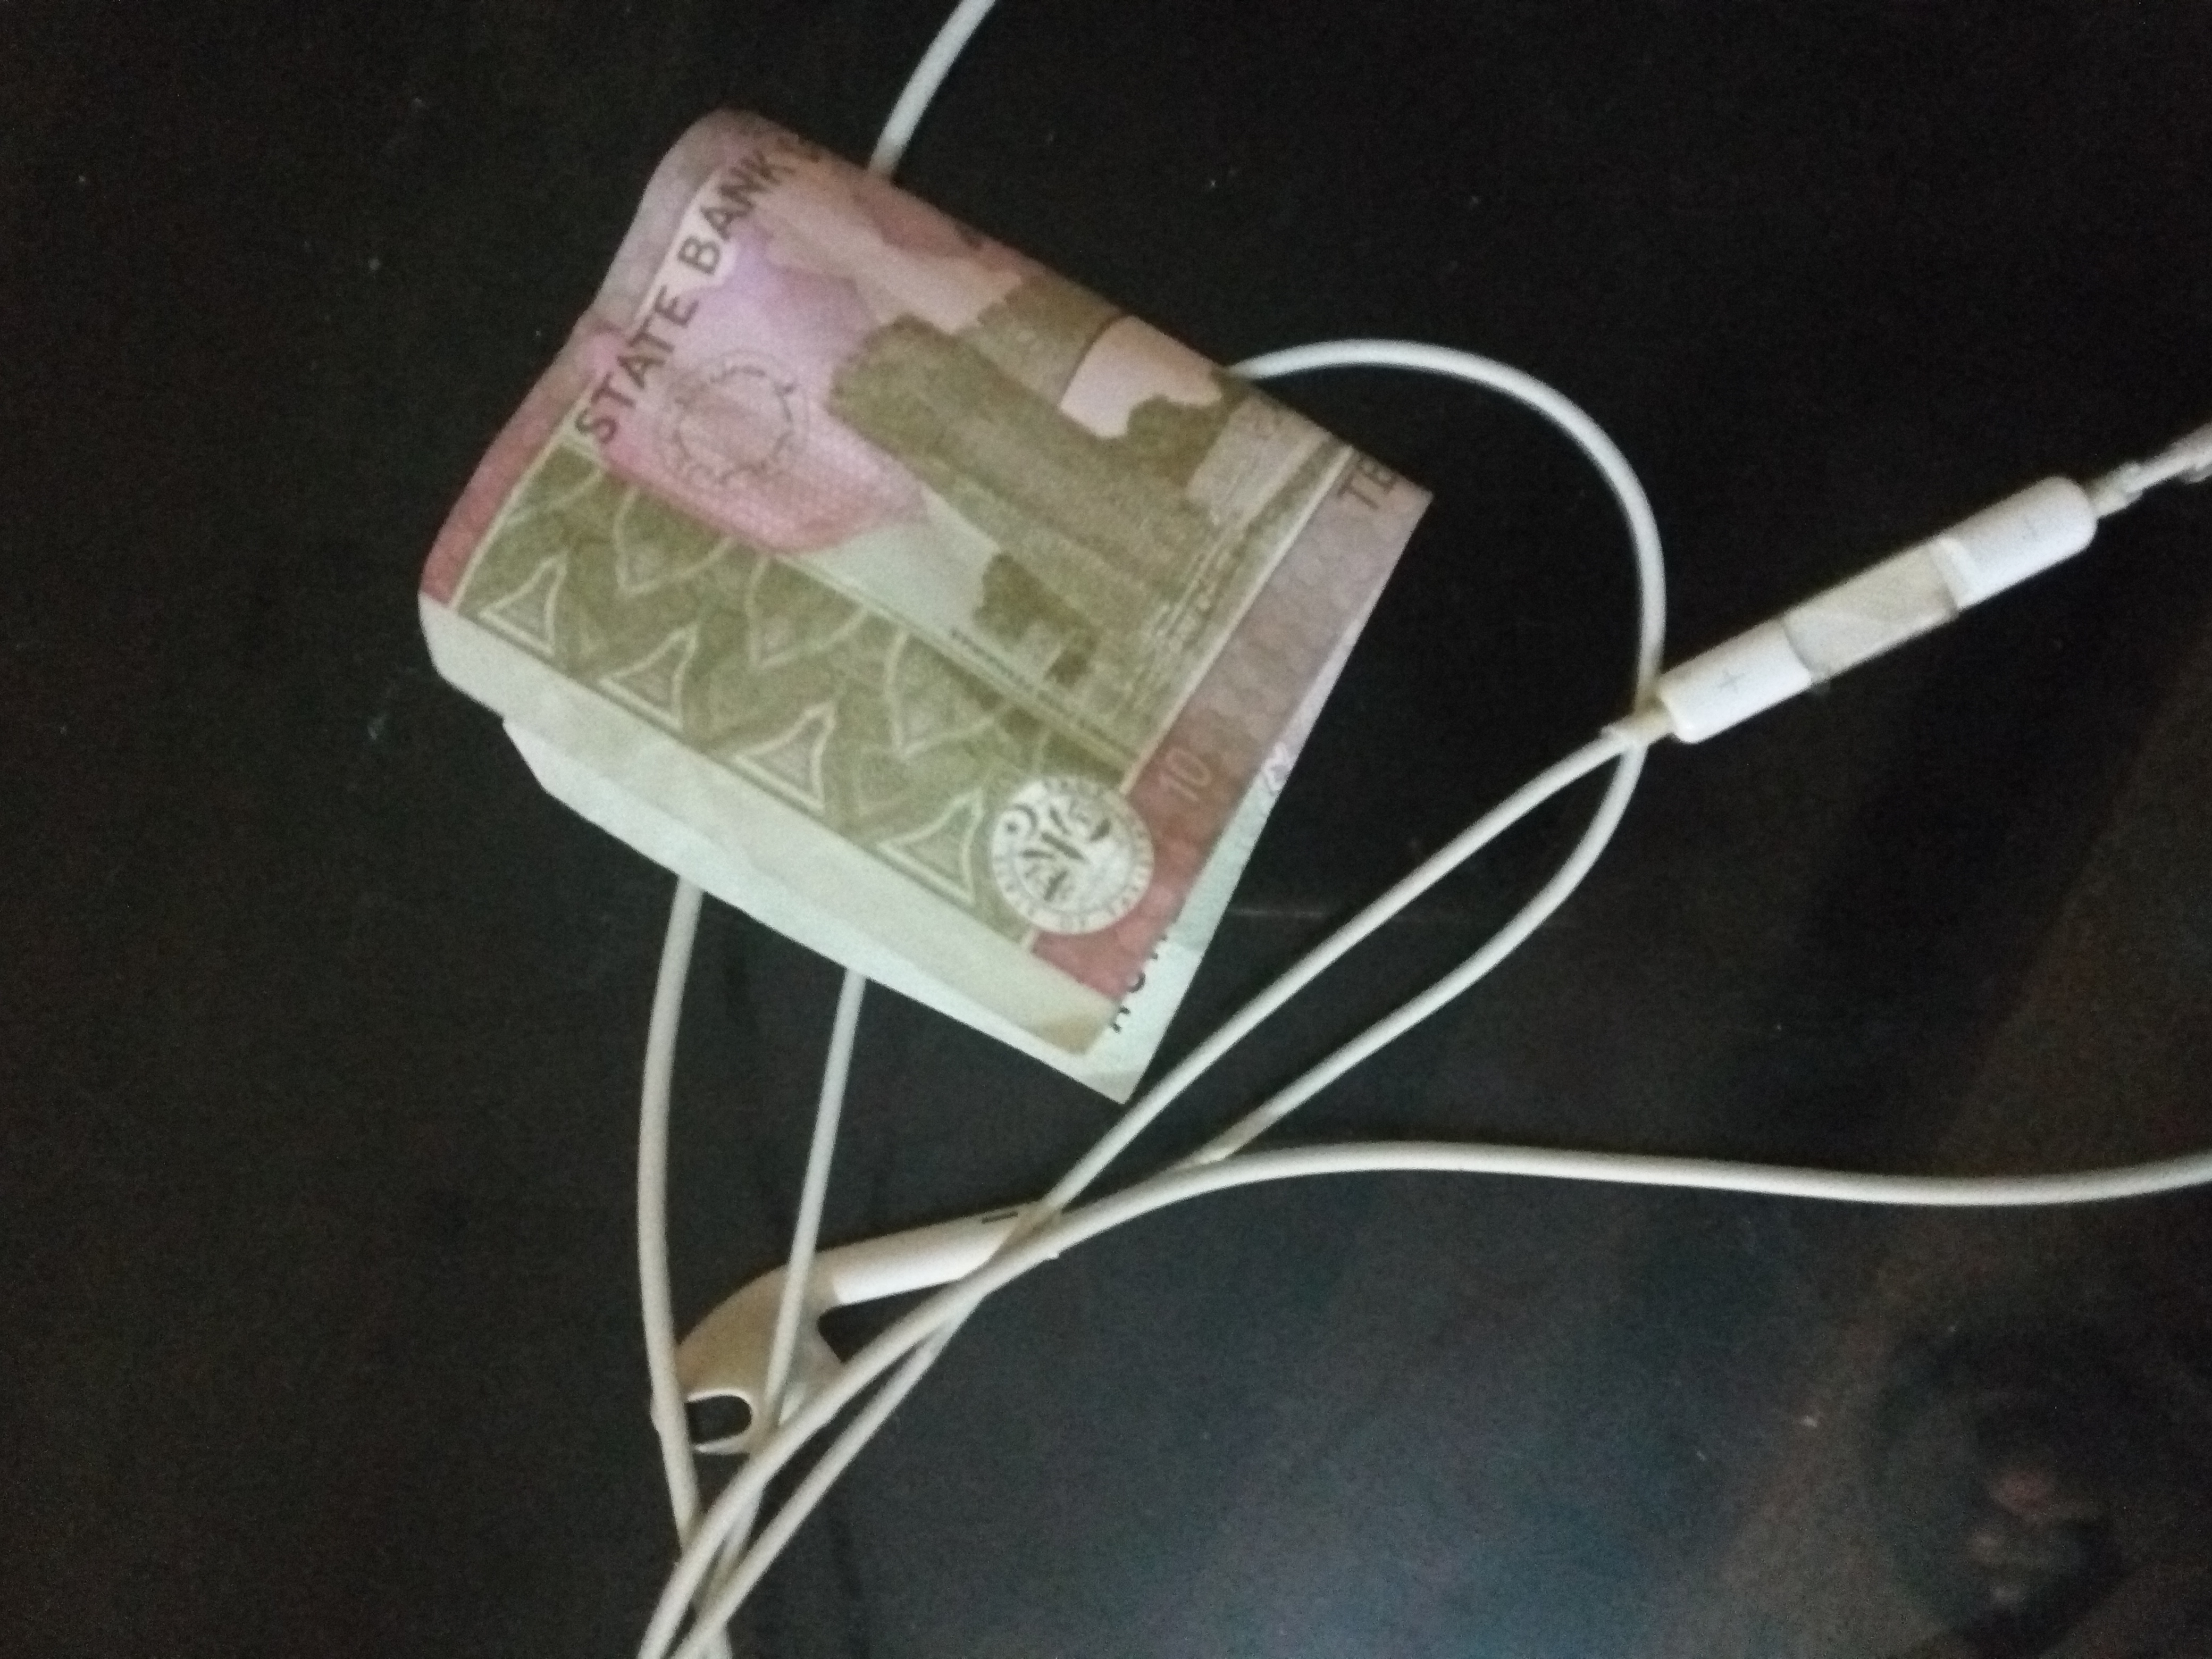10 rupee: (408, 96, 1515, 1143)
